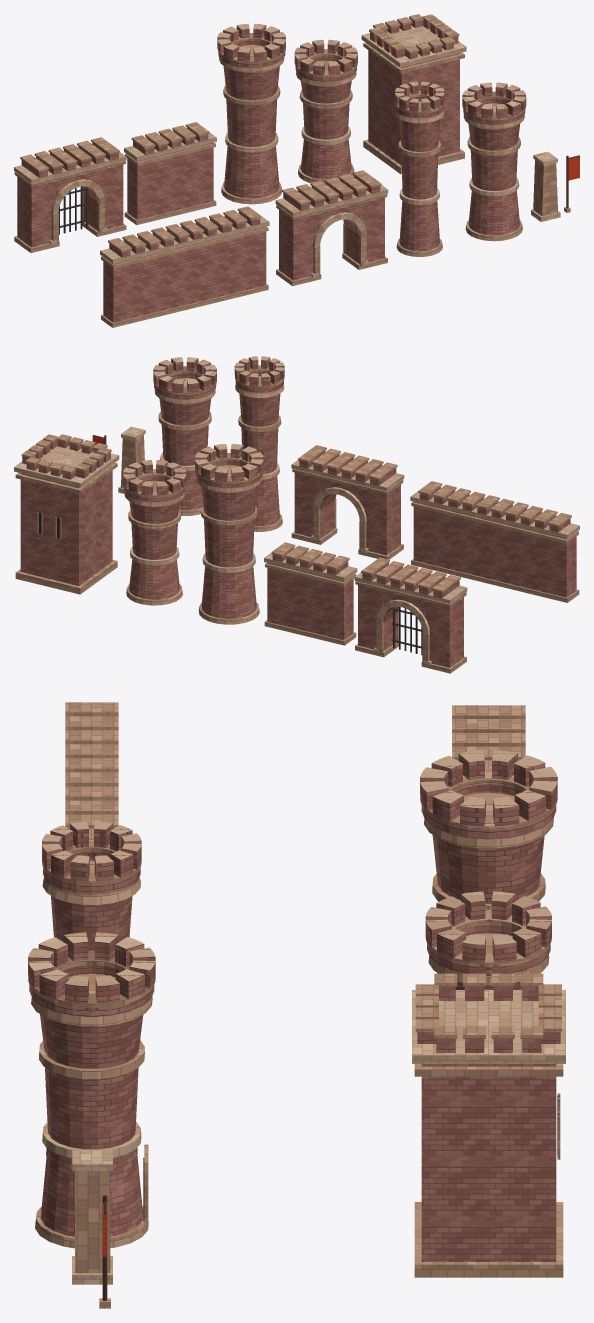
Rendered from Fortress_Kit_Showcase.obj.
3 views of the same model, one above another, from view 1: azimuth 30°, elevation 25°; view 2: azimuth 150°, elevation 25°; view 3: azimuth 270°, elevation 25° (orthographic). The views are drawn at different scales.
Parts seen in each view (by area): view 1: Brick_Rose, Stone_Sand, Stone_Light, Iron_Black; view 2: Brick_Rose, Stone_Sand, Stone_Light, Iron_Black; view 3: Brick_Rose, Stone_Sand, Stone_Light.
Part boxes in pixels (x1,y1,x2,y2): Brick_Rose: (17,19,526,322); Stone_Sand: (14,14,570,327); Stone_Light: (14,23,560,277); Iron_Black: (58,186,89,234); Brick_Rose: (20,357,576,667); Stone_Sand: (15,365,579,673); Stone_Light: (14,356,579,665); Iron_Black: (38,513,422,654); Brick_Rose: (28,753,560,1261); Stone_Sand: (28,702,563,1308); Stone_Light: (28,750,565,1284).
Size of the model in its own units: 24.94 by 7.93 by 12.19.
Materials: 6 (6 with a texture image).
